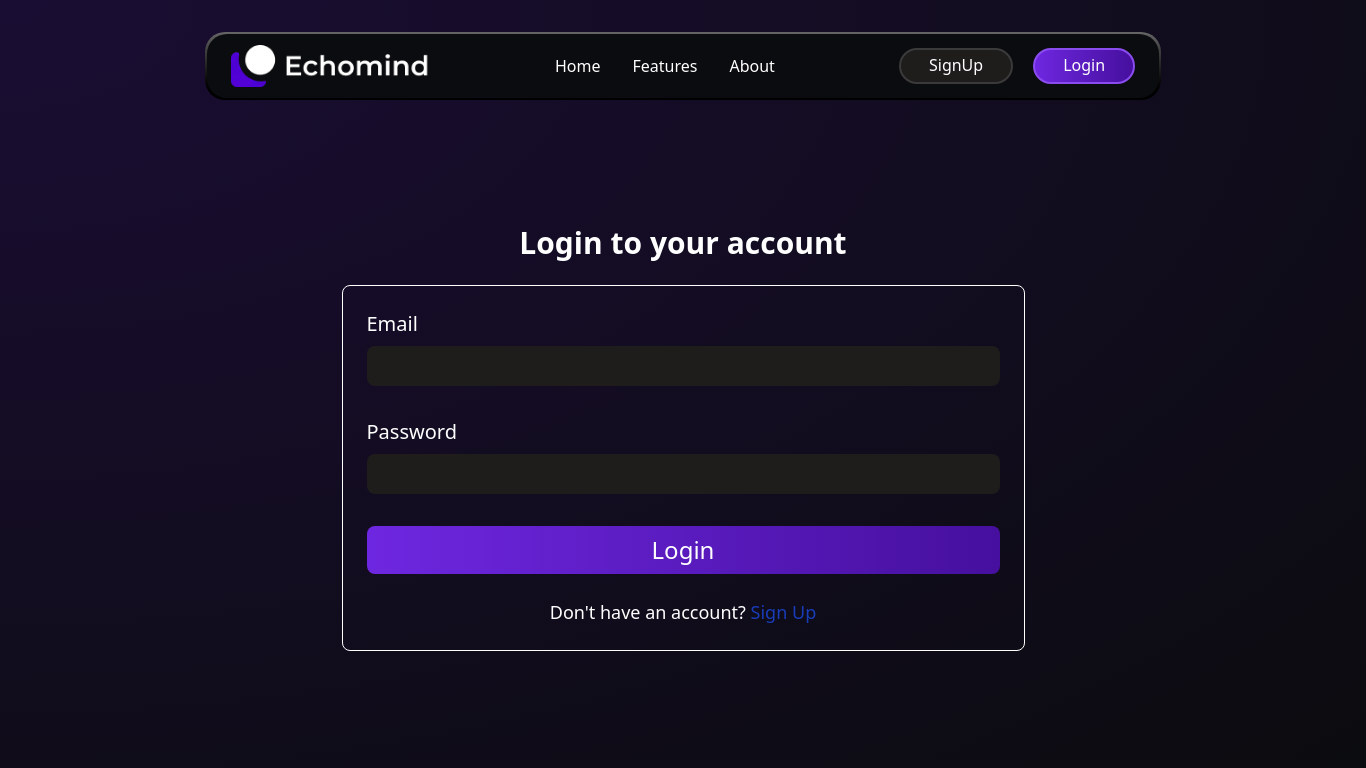
Test: Login Component › shows error messages for invalid fields
Click the button "Login" at x=683, y=550, box [366,526,1000,574]
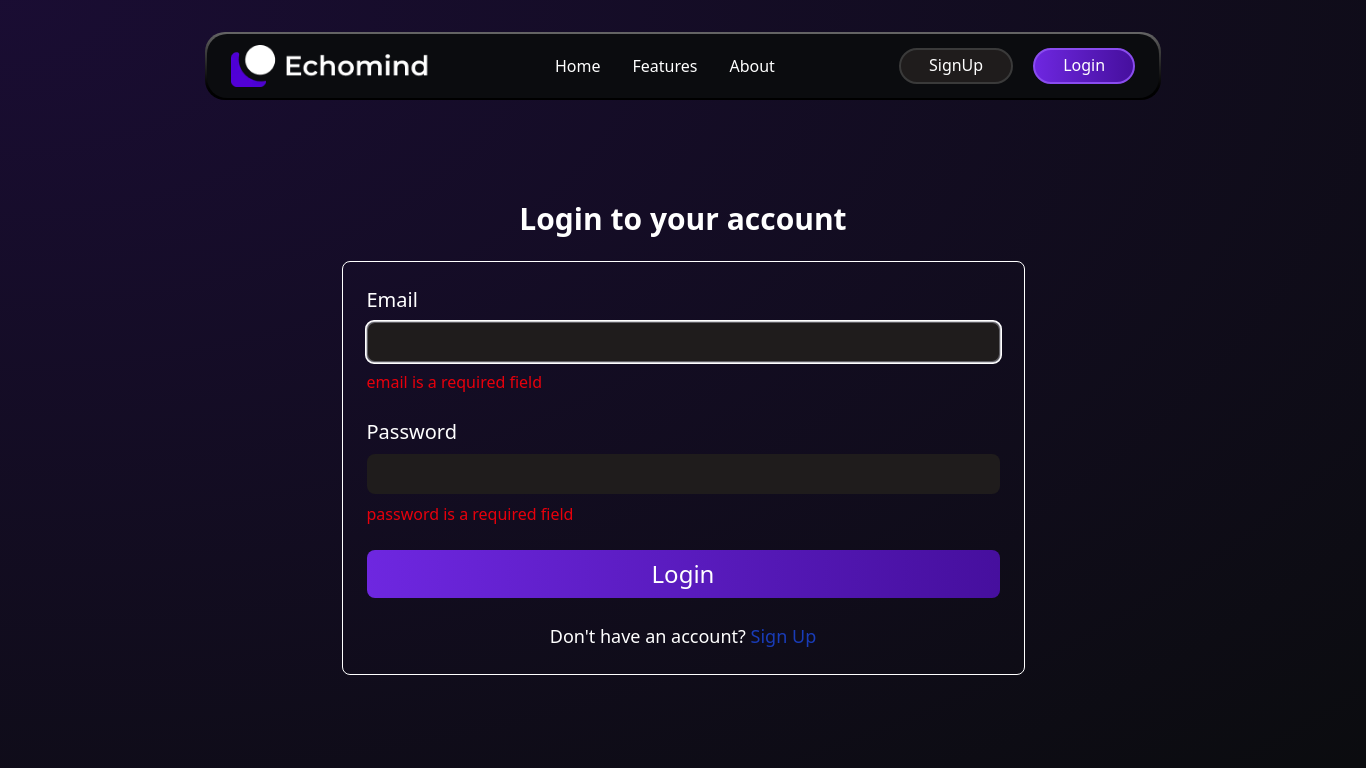
Check: the text "email is a required field" is shown, box [366,371,542,393]
Check: the text "password is a required field" is shown, box [366,503,573,525]
